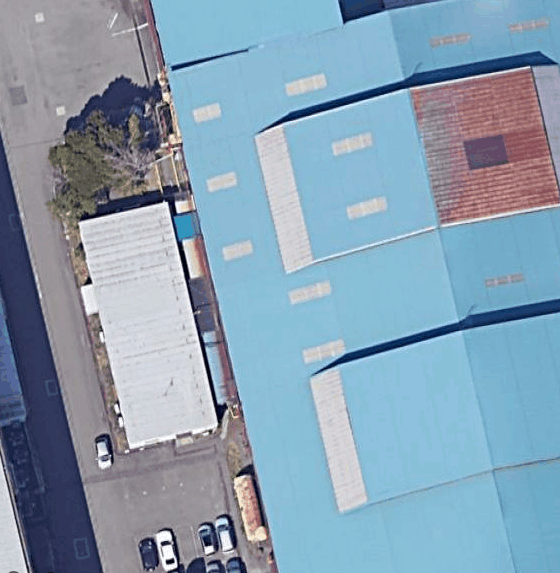flatroof: (74, 192, 225, 453)
